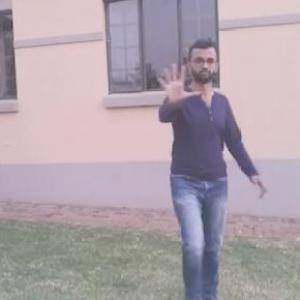follow_hand: (152, 60, 203, 113)
